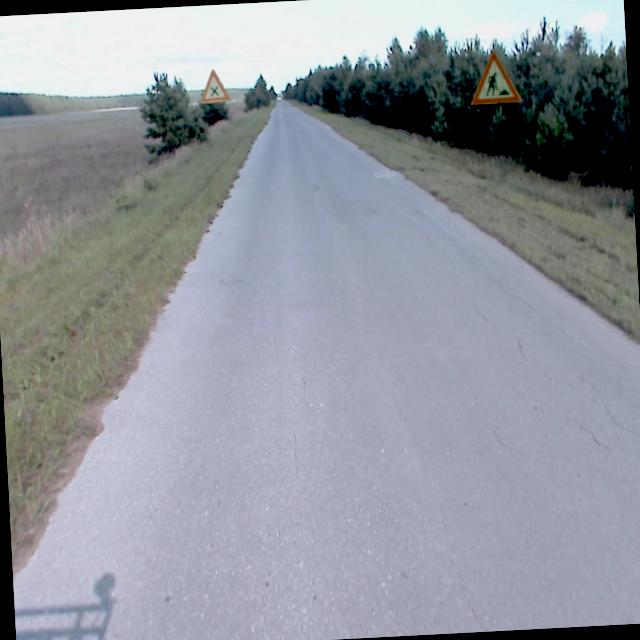road: (13, 104, 640, 640)
